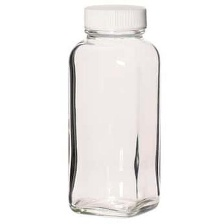bottle: (66, 0, 168, 219)
